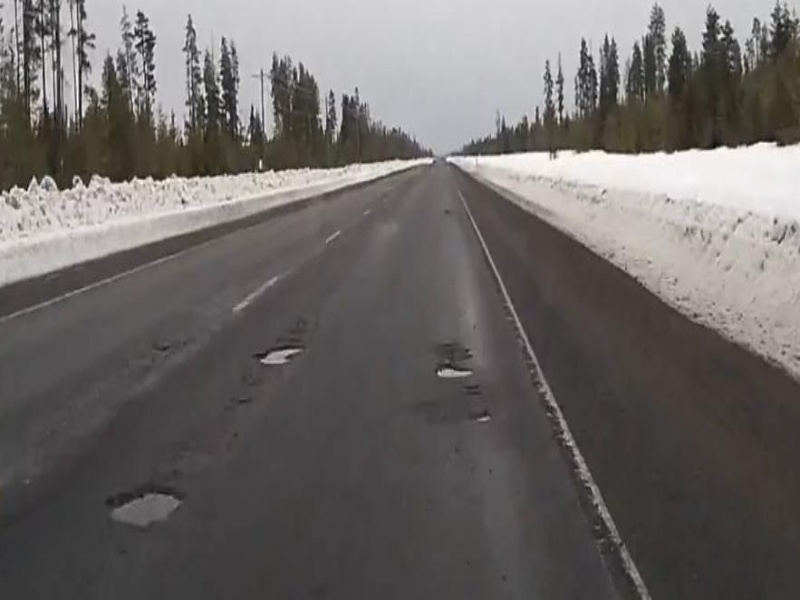pothole: (98, 485, 187, 529), (256, 345, 302, 365), (433, 365, 473, 380)
